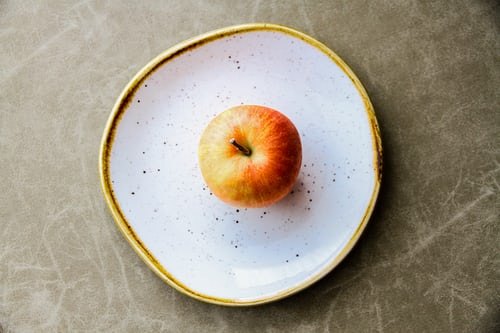apple: (196, 103, 302, 214)
